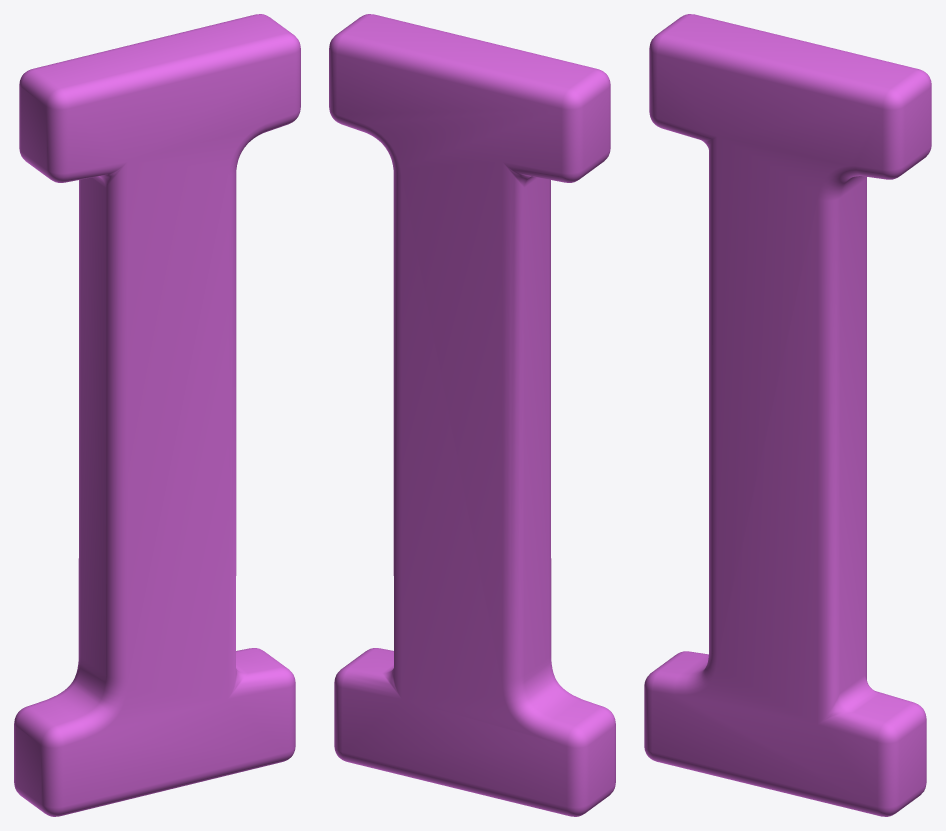
The picture shows the model from 3 angles, left to right: view 1: azimuth 30°, elevation 25°; view 2: azimuth 150°, elevation 25°; view 3: azimuth 330°, elevation 25°; orthographic projection.
Parts seen in each view (by area): view 1: 텍스트.001; view 2: 텍스트.001; view 3: 텍스트.001.
Part boxes in pixels (<box>): 텍스트.001: <box>14,14,300,816</box>; 텍스트.001: <box>329,14,615,816</box>; 텍스트.001: <box>644,14,931,816</box>.
Bounding box in the file's own units: 0.1819 × 0.4897 × 0.05.
